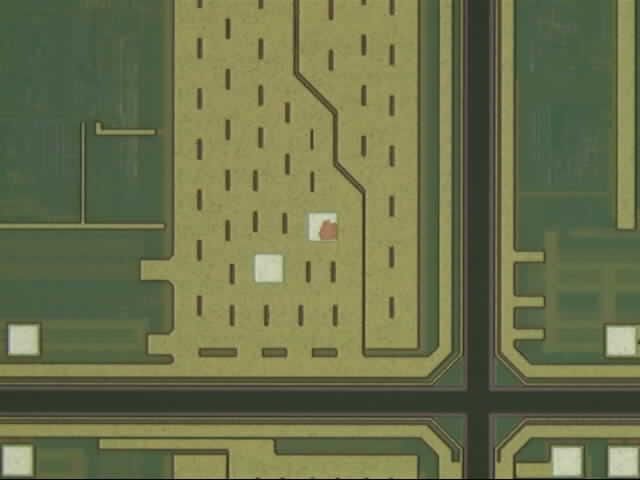BLOCK ETCH: (314, 217, 346, 249)
